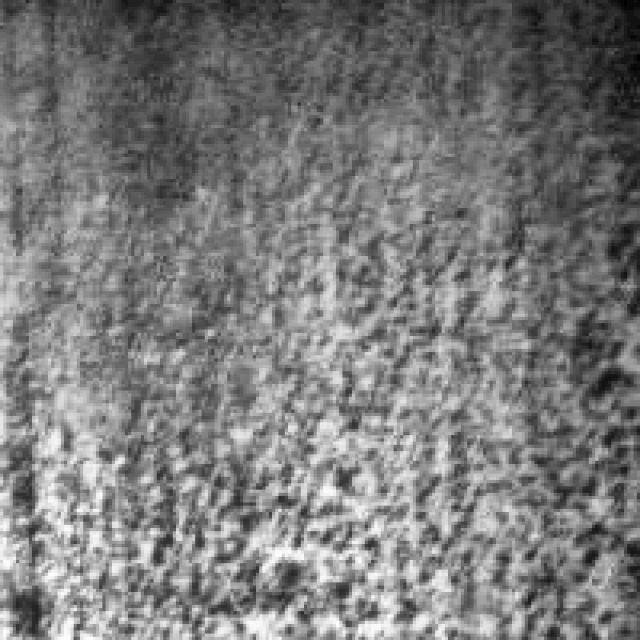Rolled_in_Scale: (106, 150, 634, 630)
